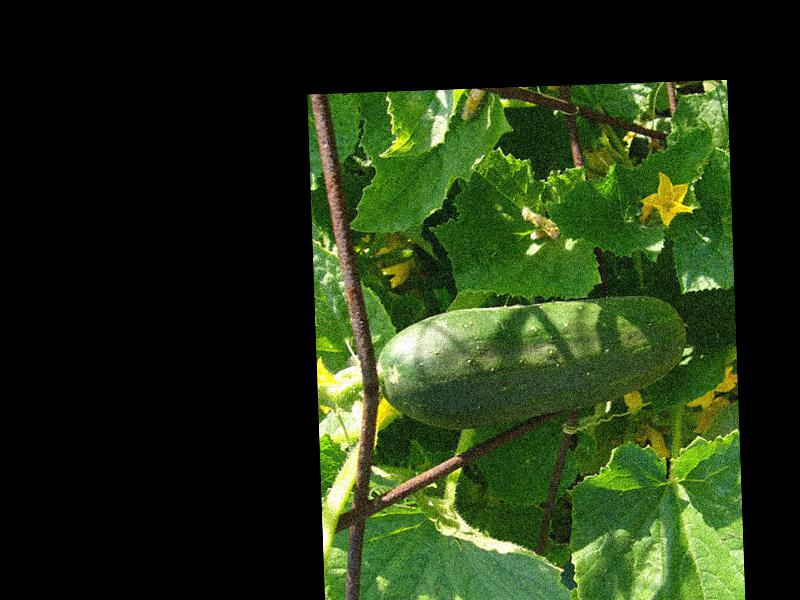Cucumber: (375, 293, 690, 435)
